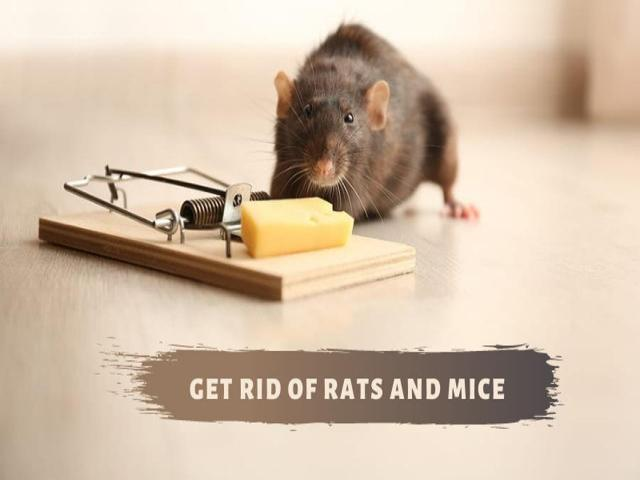Tikus: (274, 20, 464, 198)
